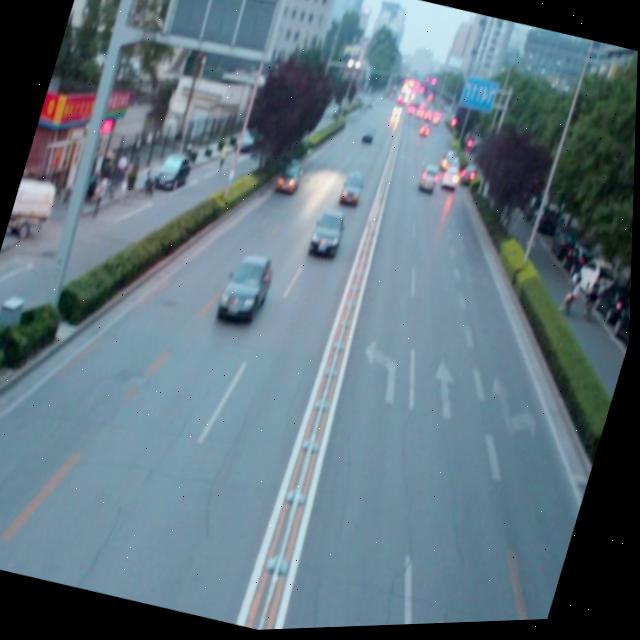car: (216, 250, 278, 325), (306, 208, 349, 264), (336, 170, 368, 213), (273, 160, 306, 200)
